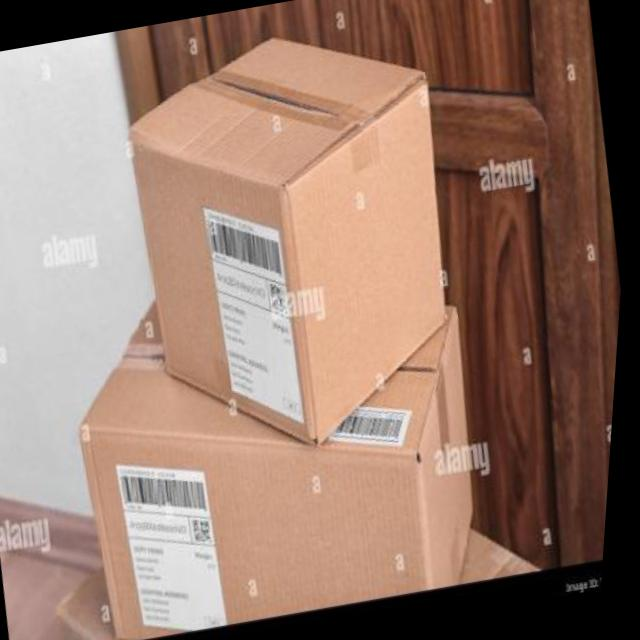box: (15, 225, 519, 640), (90, 0, 498, 477)
